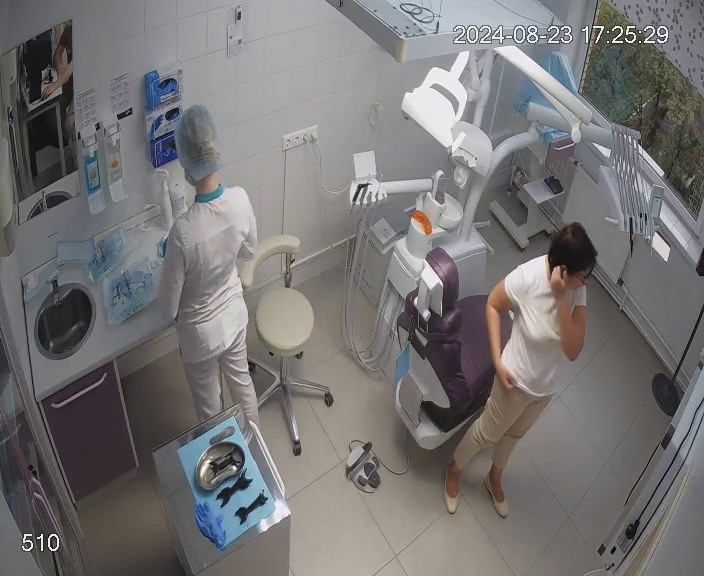Empty: (390, 226, 522, 466)
